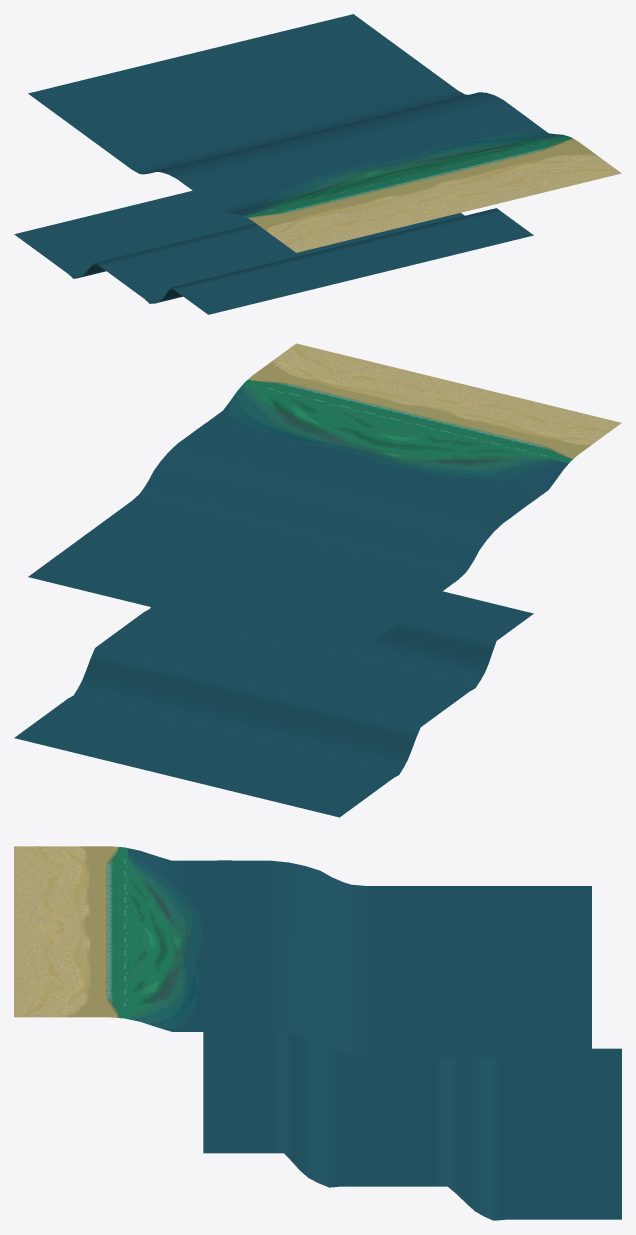
Rendered from beach.glb.
3 renders of one model, top to bottom at view 1: azimuth 30°, elevation 25°; view 2: azimuth 150°, elevation 25°; view 3: azimuth 270°, elevation 25°, orthographic. The views are drawn at different scales.
Visible parts, largest first — view 1: Sea, Bottom, Beach; view 2: Sea, Bottom, Beach; view 3: Sea, Bottom, Beach.
Boxes of the visible parts, x1=… form: Sea: x1=28, y1=14, x2=533, y2=201; Bottom: x1=14, y1=190, x2=533, y2=314; Beach: x1=209, y1=122, x2=621, y2=252; Sea: x1=28, y1=421, x2=533, y2=656; Bottom: x1=14, y1=591, x2=533, y2=817; Beach: x1=209, y1=343, x2=621, y2=500; Sea: x1=203, y1=860, x2=591, y2=1057; Bottom: x1=203, y1=1031, x2=621, y2=1220; Beach: x1=14, y1=846, x2=203, y2=1031.
Size of the model in its own units: 13.26 by 7.36 by 19.91.
Materials: 2 (2 with a texture image).
